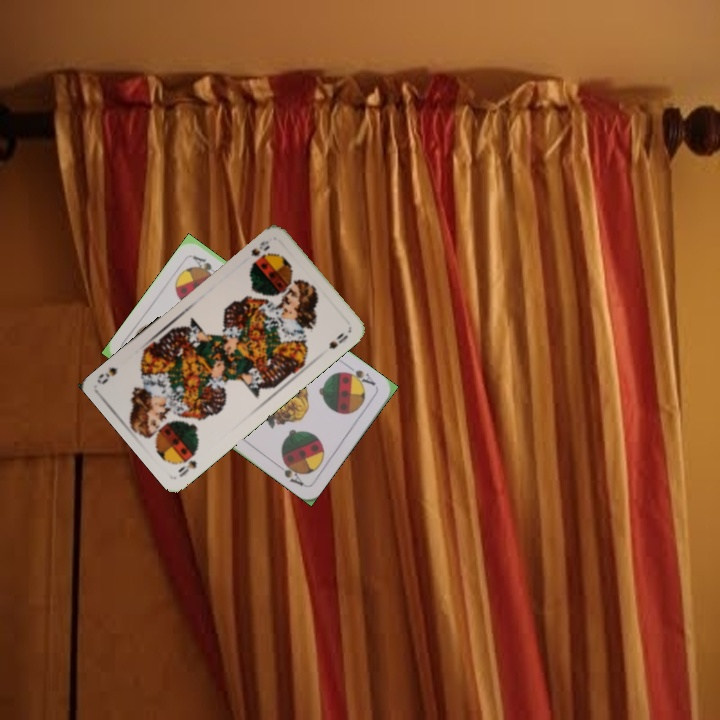SA: (340, 361, 378, 389)
SO: (247, 236, 273, 267), (174, 449, 199, 480)
